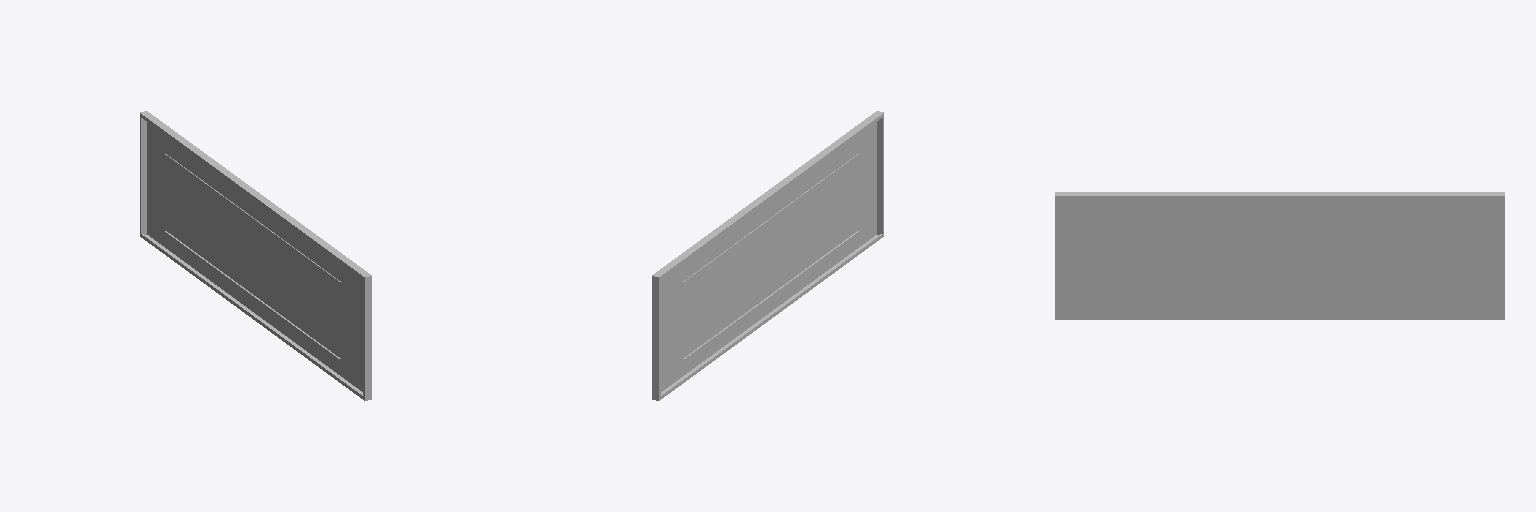
The model's file is LMspirit1.obj.
3 views of the same model, side by side, from view 1: azimuth 30°, elevation 25°; view 2: azimuth 150°, elevation 25°; view 3: azimuth 270°, elevation 25° (orthographic).
Visible parts, largest first — view 1: 立方体.041; view 2: 立方体.041; view 3: 立方体.041.
Boxes of the visible parts, box(x1,y1,x2,y2) form: 立方体.041: box(140, 111, 371, 400); 立方体.041: box(652, 111, 883, 400); 立方体.041: box(1055, 192, 1504, 319).
Size of the model in its own units: 0.0421 by 0.6647 by 2.2.